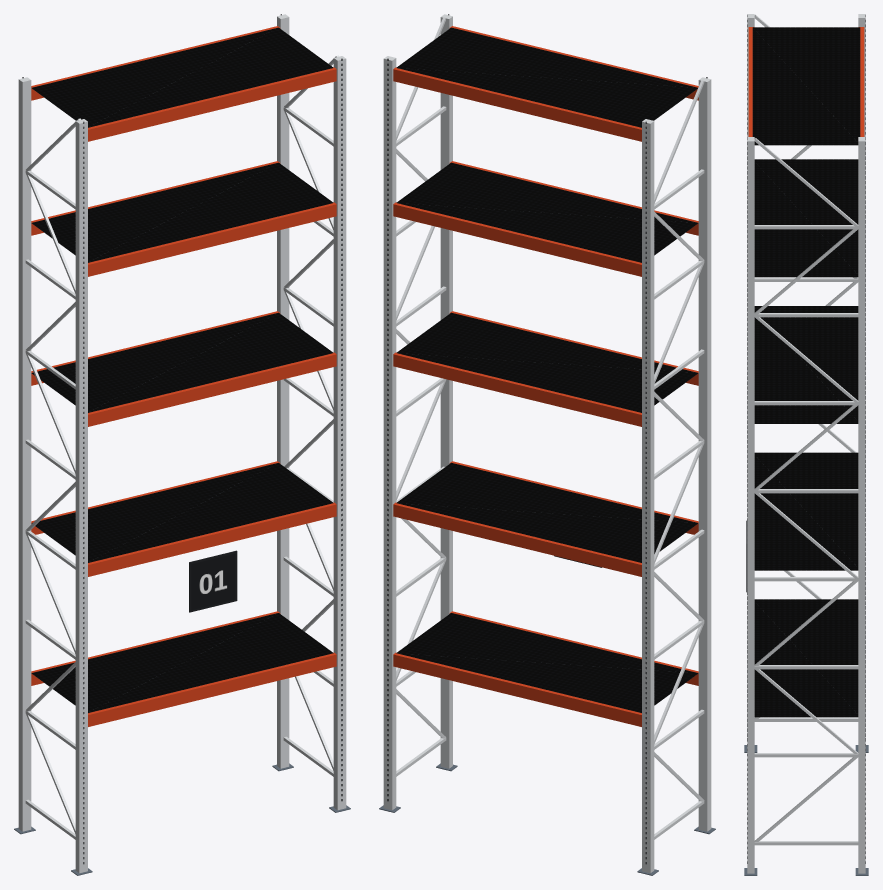
Rendered from rack_bay.glb.
3 views of the same model, side by side, from view 1: azimuth 30°, elevation 25°; view 2: azimuth 150°, elevation 25°; view 3: azimuth 270°, elevation 25° (orthographic). The views are drawn at different scales.
Visible parts, largest first — view 1: Rack_Frame_wire_mesh_black, Rack_Frame_rack_white, Rack_Frame_orange_red, Bay_Sign, Rack_Frame_black_paint; view 2: Rack_Frame_wire_mesh_black, Rack_Frame_rack_white, Rack_Frame_orange_red, Rack_Frame_black_paint; view 3: Rack_Frame_wire_mesh_black, Rack_Frame_rack_white, Rack_Frame_black_paint, Rack_Frame_orange_red, Rack_Frame_alu_dark.
Part boxes in pixels (x1,y1,x2,y2): Rack_Frame_wire_mesh_black: [31, 27, 333, 712]; Rack_Frame_rack_white: [18, 14, 346, 873]; Rack_Frame_orange_red: [31, 26, 336, 726]; Bay_Sign: [191, 553, 235, 610]; Rack_Frame_black_paint: [22, 14, 342, 864]; Rack_Frame_wire_mesh_black: [396, 27, 698, 712]; Rack_Frame_rack_white: [383, 14, 711, 873]; Rack_Frame_orange_red: [393, 26, 698, 726]; Rack_Frame_black_paint: [387, 14, 707, 864]; Rack_Frame_wire_mesh_black: [752, 27, 860, 717]; Rack_Frame_rack_white: [747, 14, 865, 873]; Rack_Frame_black_paint: [747, 15, 865, 863]; Rack_Frame_orange_red: [748, 27, 864, 136]; Rack_Frame_alu_dark: [744, 745, 868, 875].
Size of the model in its own units: 2.86 by 7.51 by 1.15.
6 materials, 2 textured.
